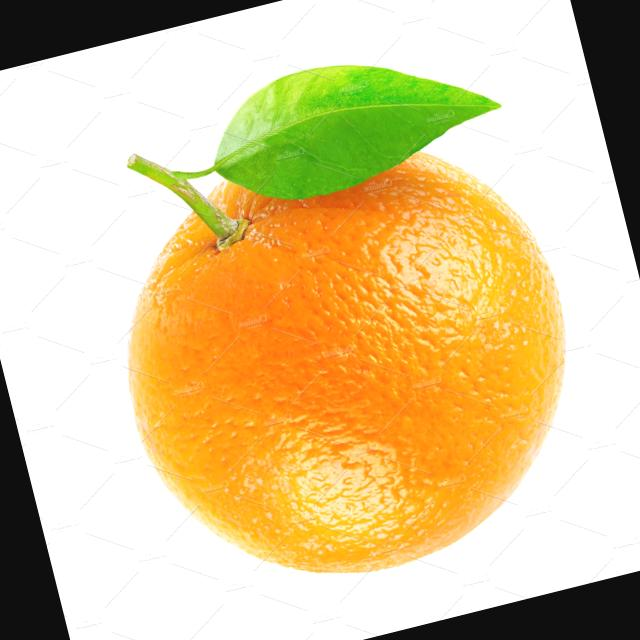orange: (87, 110, 628, 622)
